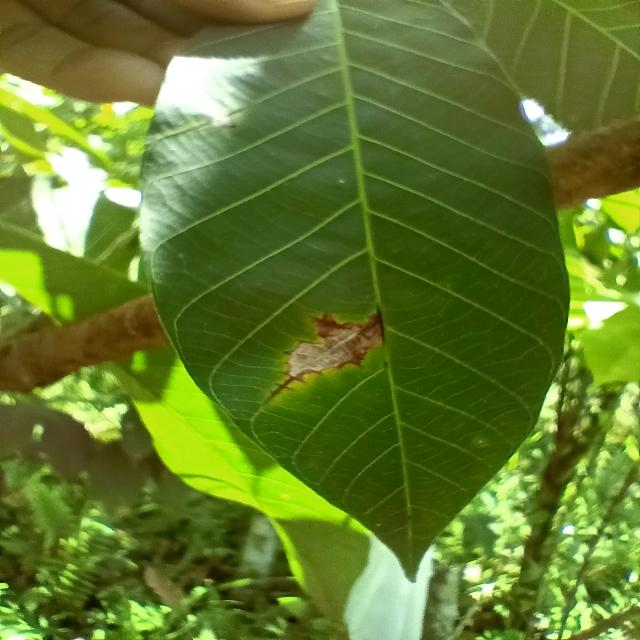Corynespora: (268, 370, 308, 400), (366, 303, 385, 345)
Leaf-Blight: (289, 315, 378, 377)
